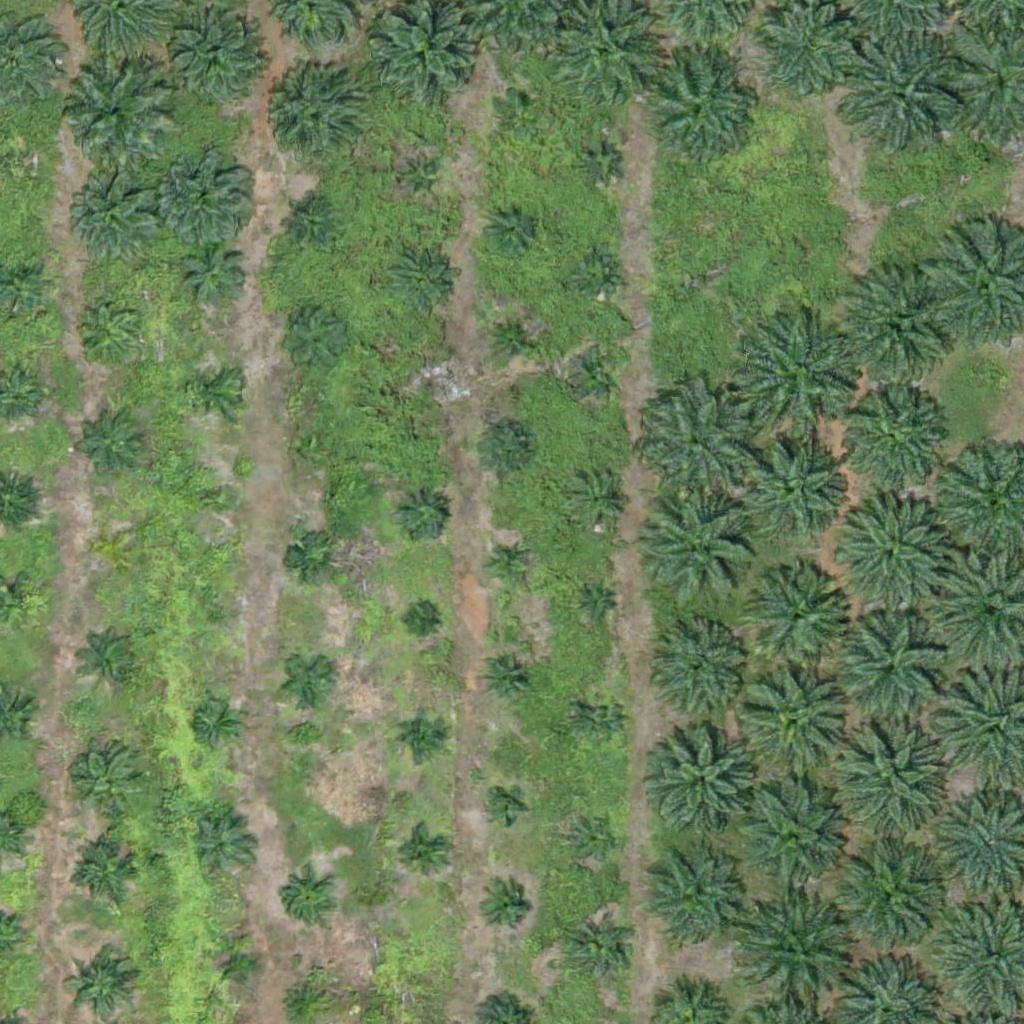Kelapa_Sawit: (838, 32, 963, 158), (739, 313, 864, 439), (826, 714, 951, 840), (841, 267, 954, 381), (55, 54, 168, 167), (643, 52, 756, 165), (831, 494, 944, 607), (830, 611, 943, 724), (833, 843, 945, 957), (741, 899, 853, 1013), (737, 783, 849, 897), (740, 666, 852, 780), (640, 386, 752, 499), (649, 492, 761, 605), (166, 10, 266, 111), (256, 68, 356, 169), (742, 436, 842, 537), (748, 564, 848, 665), (161, 145, 261, 246), (841, 385, 941, 485), (653, 730, 753, 830), (641, 856, 741, 956), (658, 626, 745, 714), (74, 178, 161, 266), (275, 301, 350, 376), (192, 814, 255, 877), (80, 413, 143, 476), (473, 418, 536, 481), (572, 921, 634, 984), (75, 842, 137, 905), (77, 752, 140, 814), (83, 630, 145, 693), (391, 249, 453, 312), (182, 240, 244, 303), (80, 303, 142, 366), (395, 827, 445, 878), (479, 881, 529, 932), (572, 475, 622, 526), (188, 363, 238, 414), (395, 488, 445, 539), (488, 310, 538, 361), (213, 940, 263, 991), (577, 693, 627, 743), (397, 710, 447, 760), (285, 655, 335, 705), (192, 698, 242, 748), (280, 873, 330, 923), (486, 201, 536, 251), (287, 535, 337, 585), (572, 348, 622, 398), (575, 138, 625, 188), (571, 249, 621, 299), (391, 153, 441, 203), (494, 84, 544, 134), (483, 538, 533, 588), (566, 812, 616, 862), (482, 652, 532, 702), (295, 431, 333, 469), (486, 787, 524, 825), (293, 207, 331, 244), (1, 145, 39, 182), (418, 364, 443, 389), (584, 593, 609, 618), (407, 607, 432, 632), (206, 600, 231, 625), (206, 484, 231, 509), (101, 538, 126, 563)
